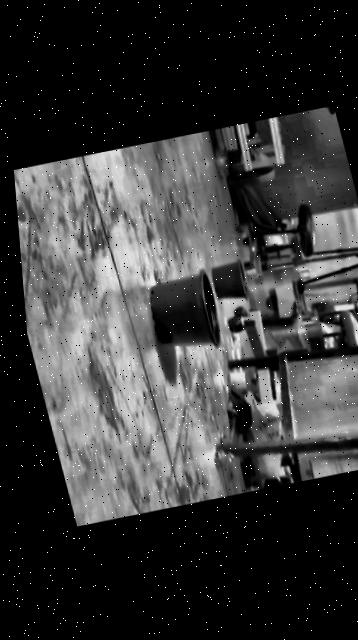pot: (141, 269, 227, 358), (208, 260, 251, 304)
